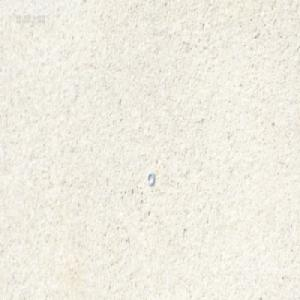Washer: (147, 171, 155, 186)
